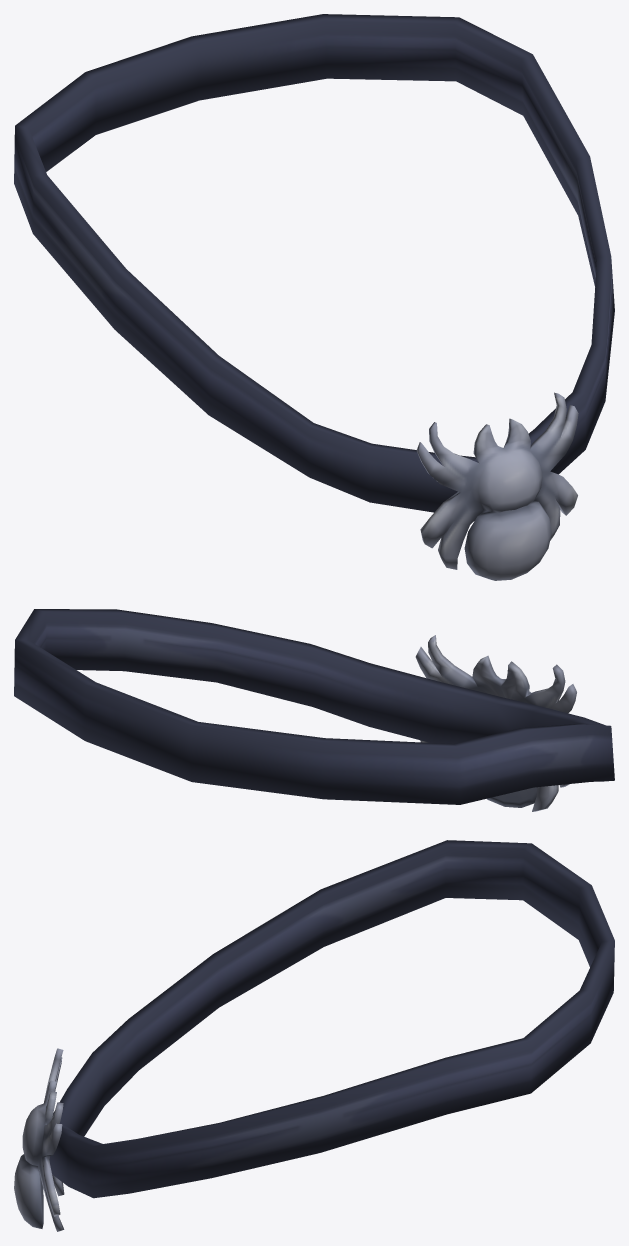
File: OkaChoker.fbx
3 views of the same model, one above another, from view 1: azimuth 30°, elevation 25°; view 2: azimuth 150°, elevation 25°; view 3: azimuth 270°, elevation 25° (orthographic). The views are drawn at different scales.
Parts seen in each view (by area): view 1: Tomuu_OkaChoke; view 2: Tomuu_OkaChoke; view 3: Tomuu_OkaChoke.
Boxes of the visible parts, x1,y1,x2,y2 form: Tomuu_OkaChoke: [14, 14, 614, 580]; Tomuu_OkaChoke: [14, 609, 614, 811]; Tomuu_OkaChoke: [14, 840, 614, 1231].
Size of the model in its own units: 8.21 by 4.91 by 9.34.
